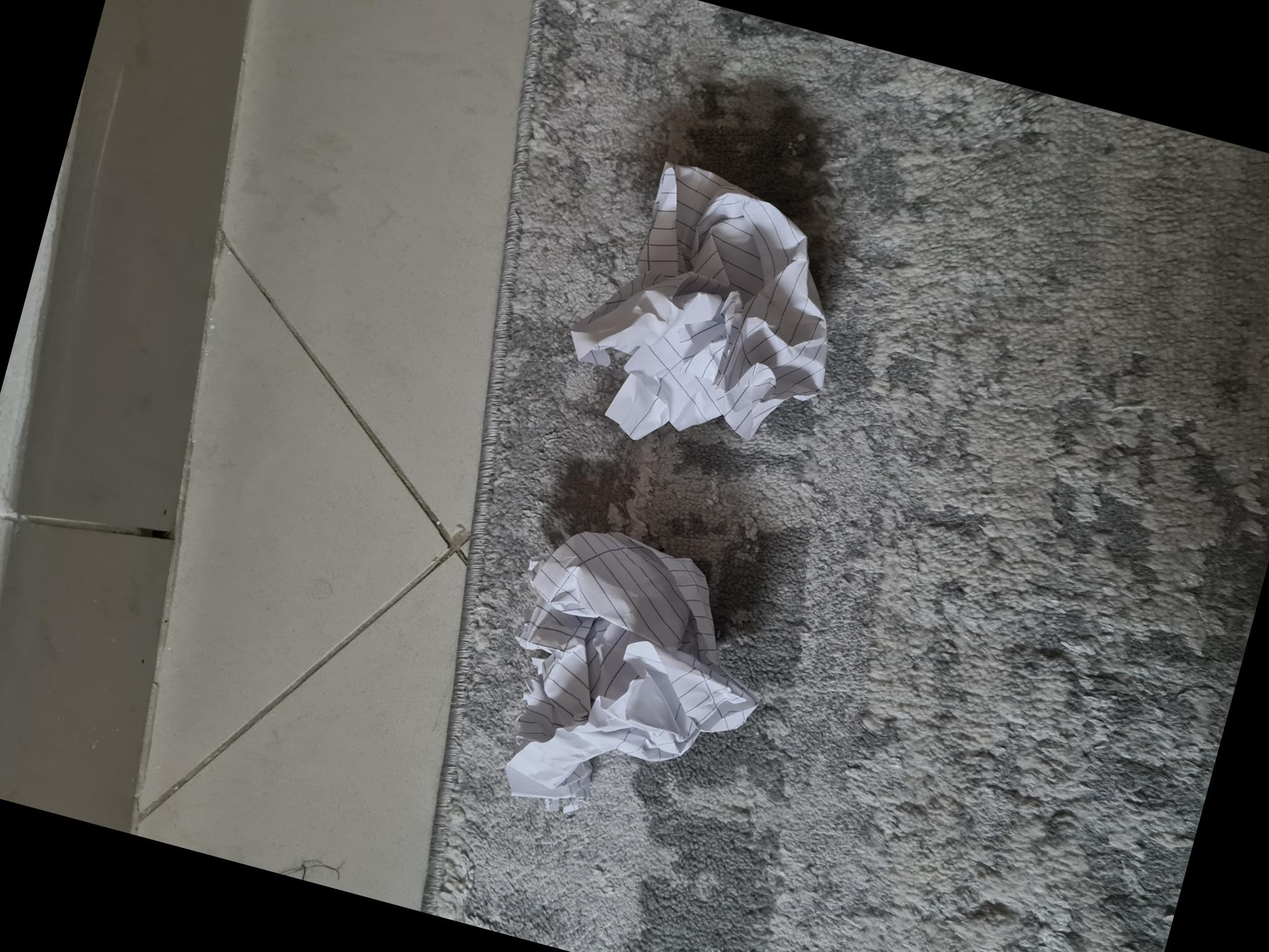Kertas: (104, 459, 384, 709), (478, 525, 752, 780)
